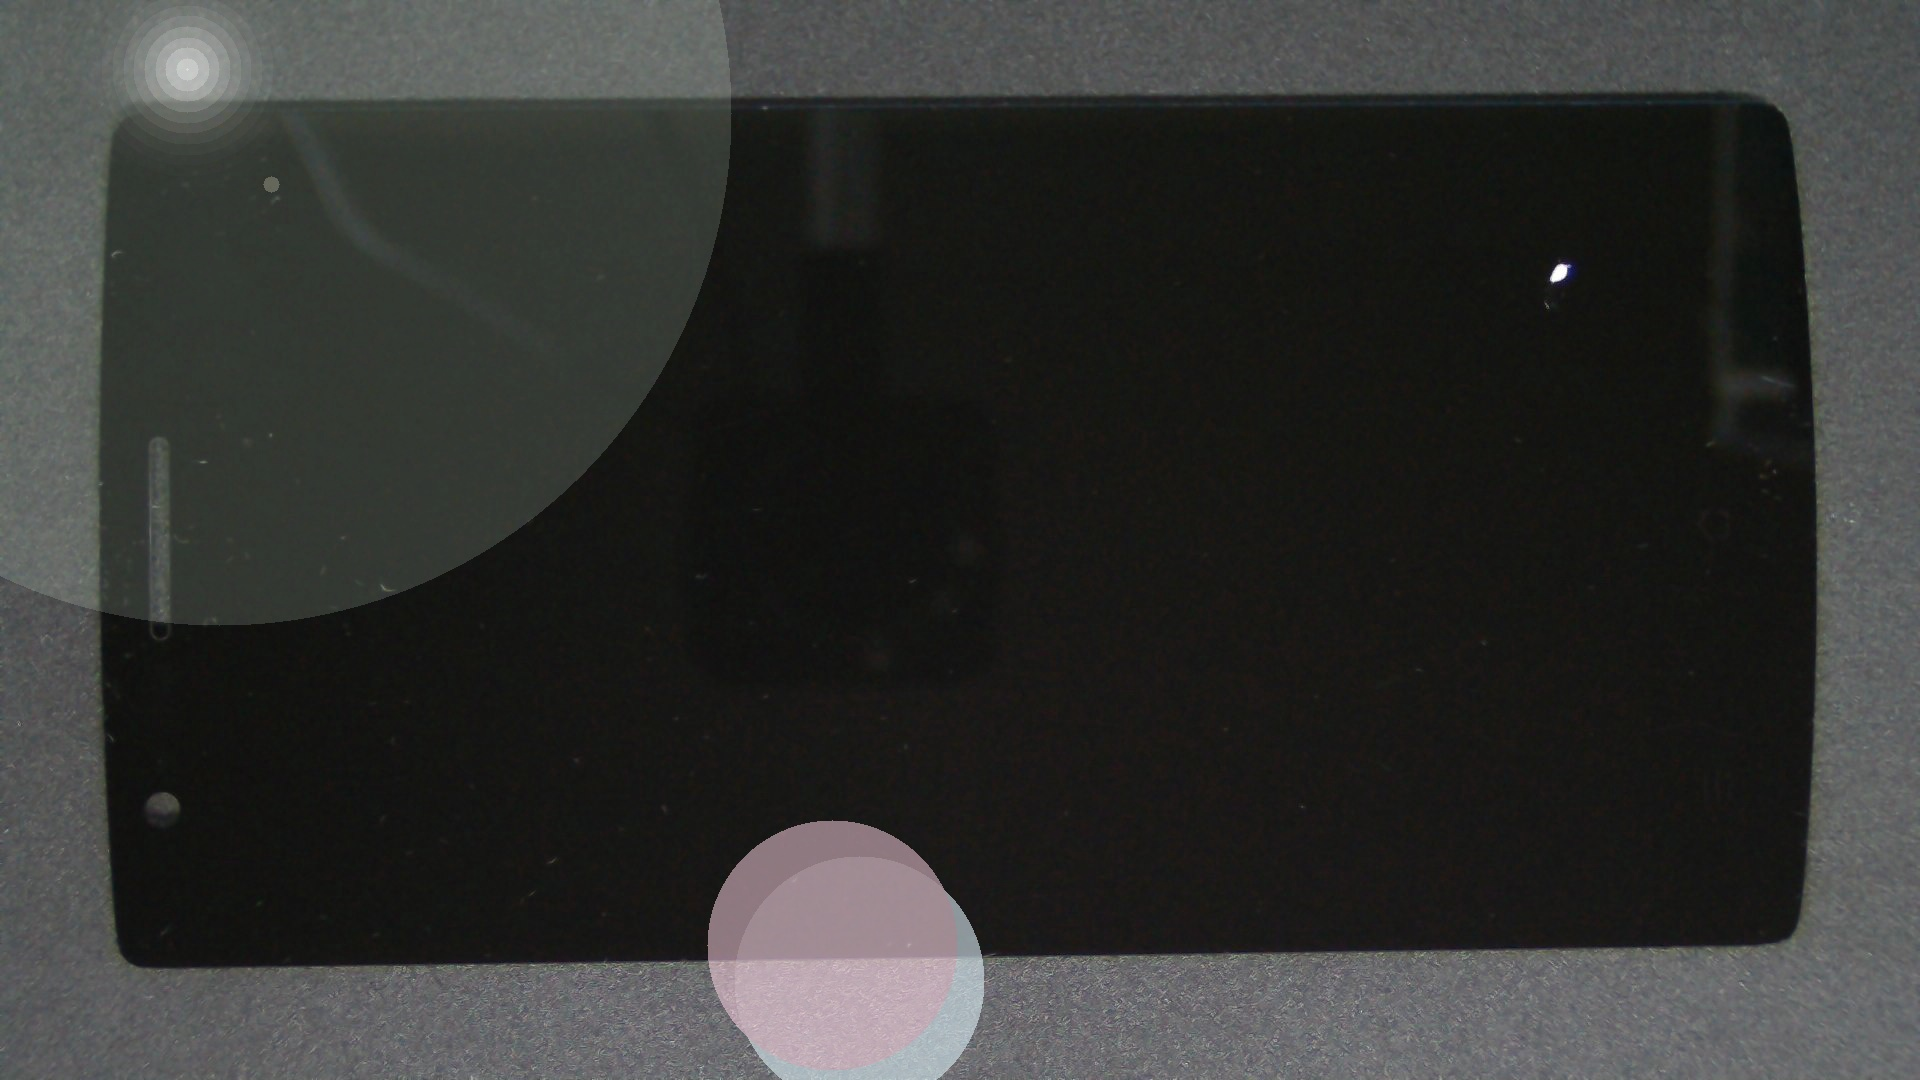oil: (782, 131, 1920, 393)
